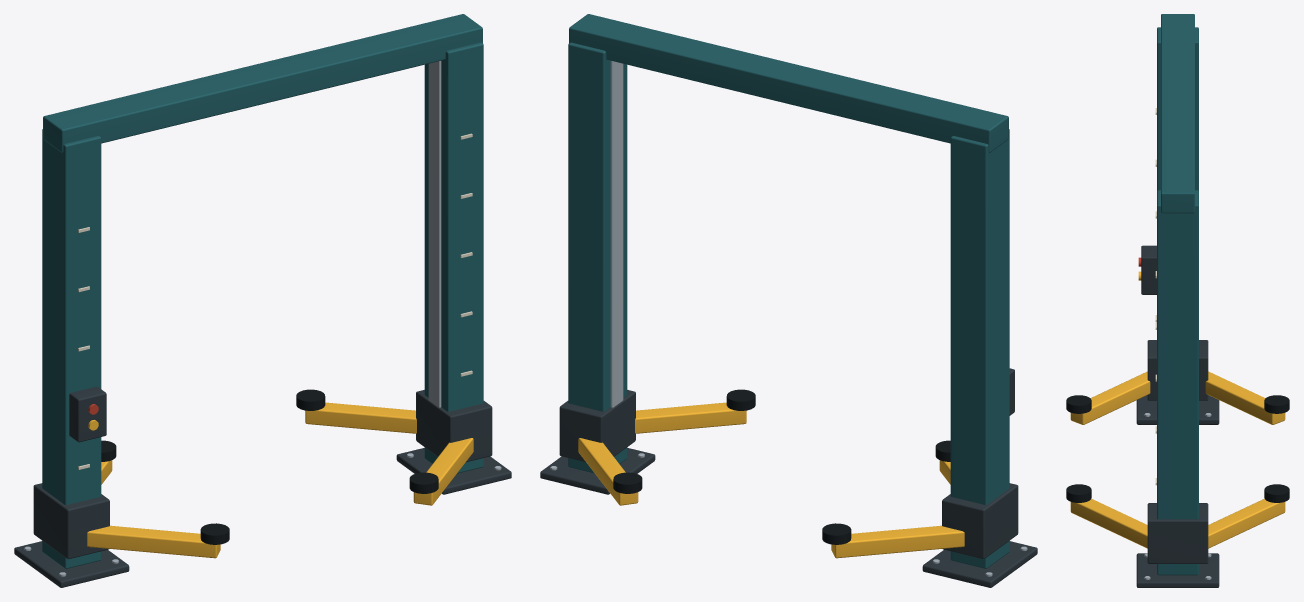
The model's file is 01_lift.glb.
3 views of the same model, side by side, from view 1: azimuth 30°, elevation 25°; view 2: azimuth 150°, elevation 25°; view 3: azimuth 270°, elevation 25° (orthographic). The views are drawn at different scales.
Parts seen in each view (by area): view 1: 01_lift__frame, 01_lift__carriage_R, 01_lift__carriage_L; view 2: 01_lift__frame, 01_lift__carriage_R, 01_lift__carriage_L; view 3: 01_lift__frame, 01_lift__carriage_R, 01_lift__carriage_L.
Part boxes in pixels (x1=…): 01_lift__frame: x1=14, y1=14, x2=511, y2=587; 01_lift__carriage_R: x1=296, y1=389, x2=492, y2=505; 01_lift__carriage_L: x1=33, y1=440, x2=229, y2=559; 01_lift__frame: x1=540, y1=14, x2=1037, y2=587; 01_lift__carriage_R: x1=559, y1=389, x2=755, y2=505; 01_lift__carriage_L: x1=822, y1=440, x2=1018, y2=559; 01_lift__frame: x1=1136, y1=14, x2=1219, y2=587; 01_lift__carriage_R: x1=1066, y1=484, x2=1289, y2=563; 01_lift__carriage_L: x1=1066, y1=340, x2=1289, y2=424.
Size of the model in its own units: 3.59 by 3.38 by 1.76.
